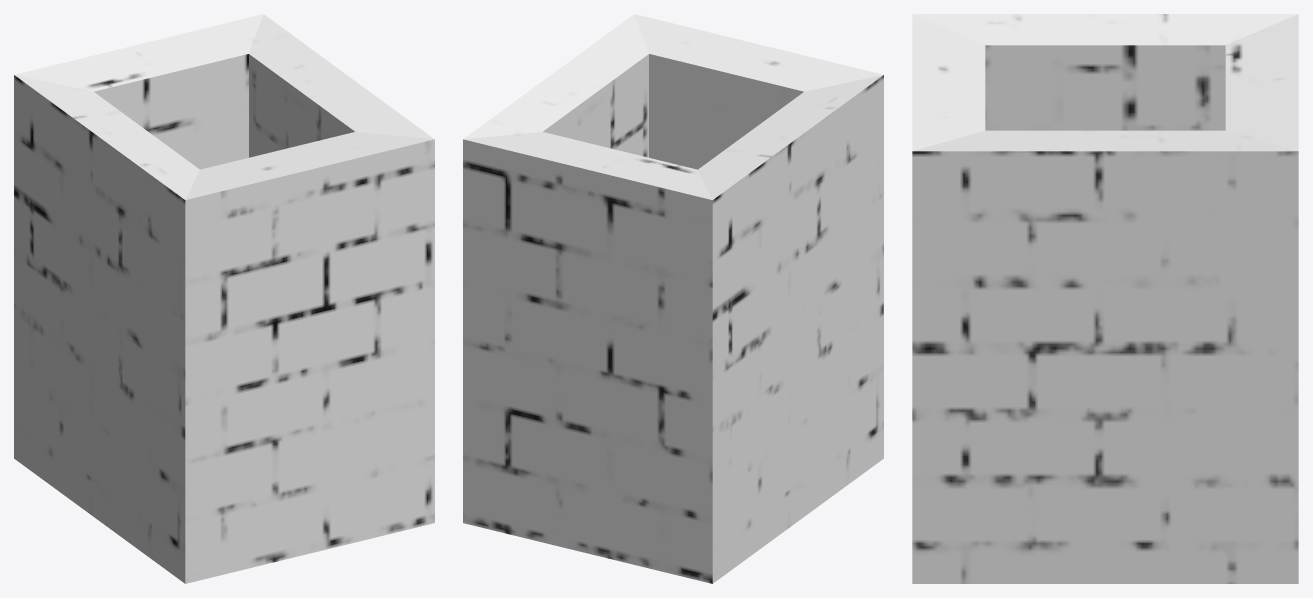
The model's file is Chimney.fbx.
The picture shows the model from 3 angles, left to right: view 1: azimuth 30°, elevation 25°; view 2: azimuth 150°, elevation 25°; view 3: azimuth 270°, elevation 25°; orthographic projection. The views are drawn at different scales.
Visible parts, largest first — view 1: Plane.036; view 2: Plane.036; view 3: Plane.036.
Part boxes in pixels (bbox=[...]): Plane.036: bbox=[14, 14, 434, 583]; Plane.036: bbox=[463, 14, 883, 583]; Plane.036: bbox=[912, 14, 1298, 583].
Size of the model in its own units: 32.46 by 47.72 by 38.59.
